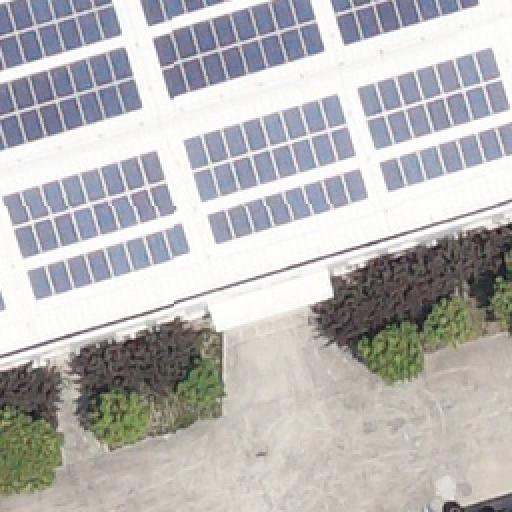solar-panel: (182, 92, 358, 204), (2, 150, 178, 258), (151, 1, 329, 103), (356, 46, 512, 150), (0, 44, 144, 152), (26, 222, 194, 302), (205, 168, 371, 248), (377, 119, 511, 193), (0, 0, 124, 72), (330, 0, 482, 48), (140, 0, 236, 28), (0, 282, 8, 310)
